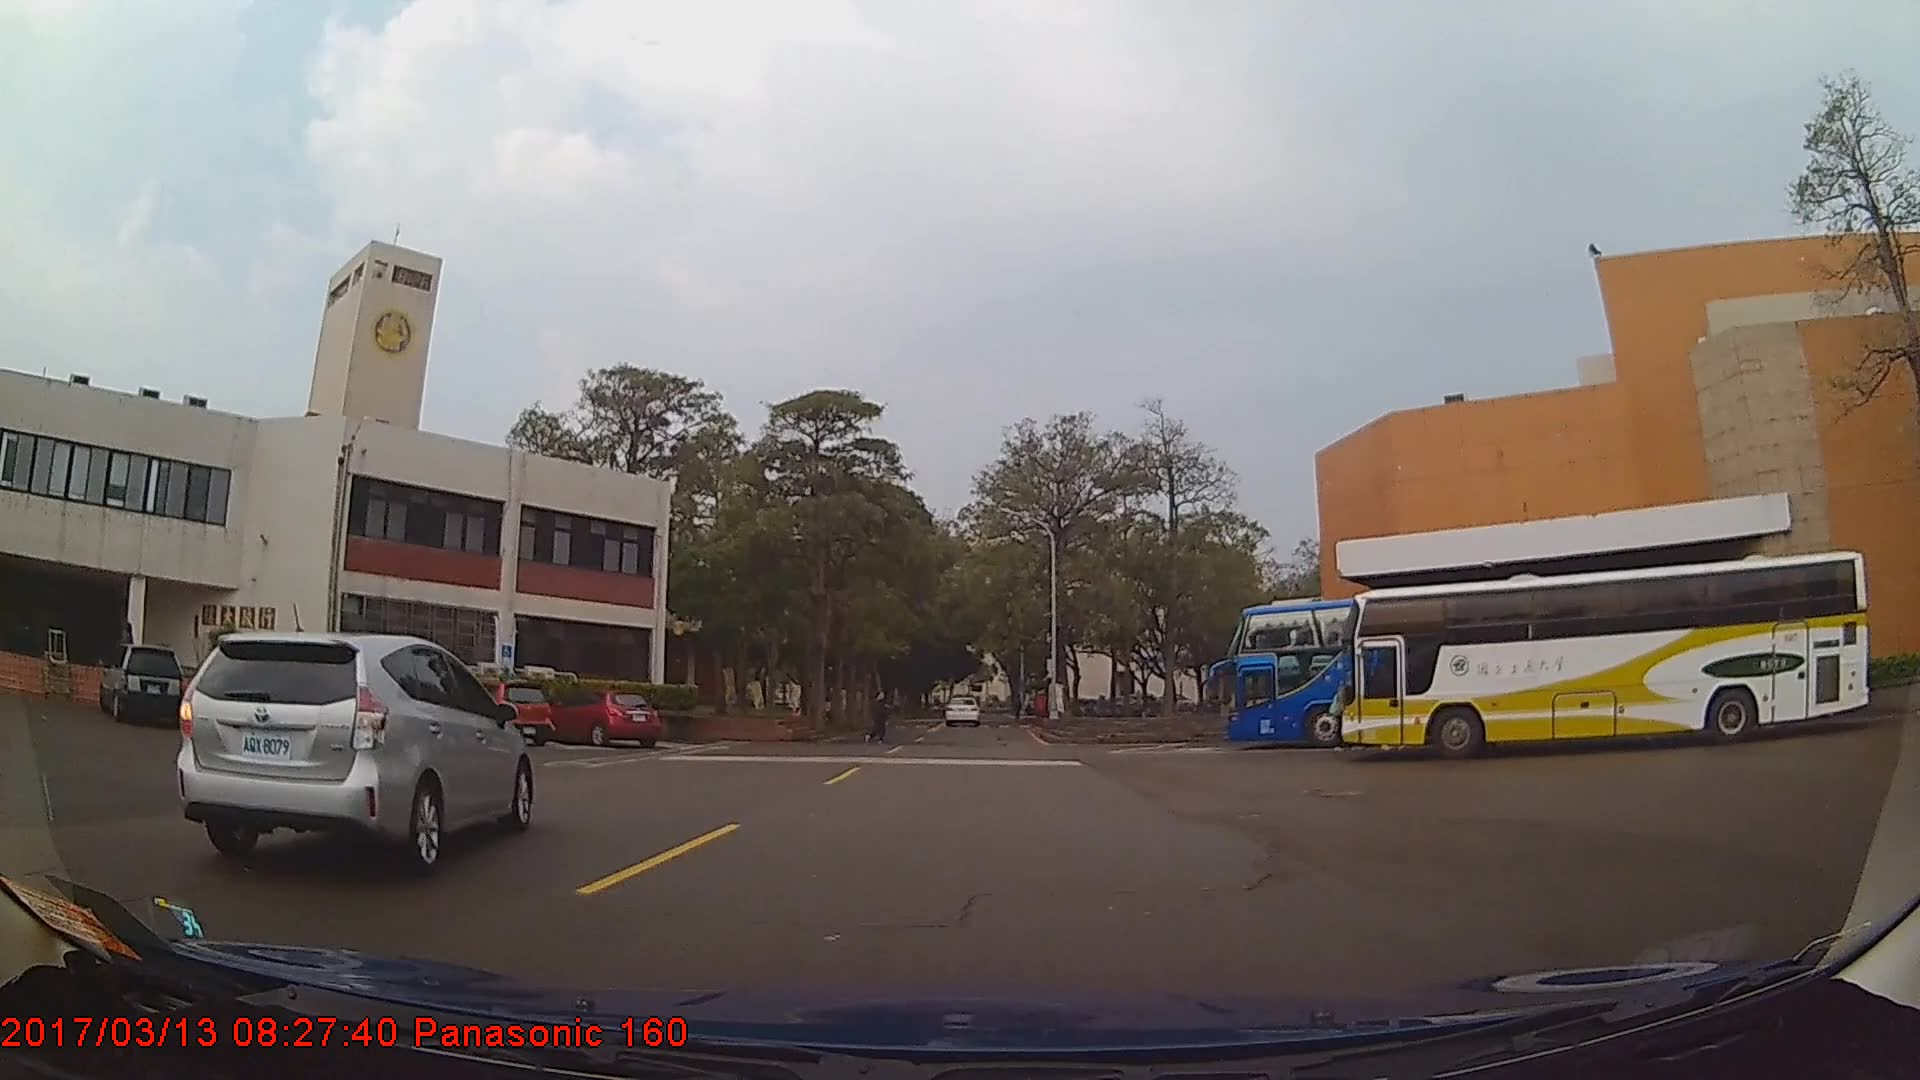pedestrian: (871, 688, 891, 745)
vehicle: (1341, 551, 1872, 762), (180, 623, 538, 870), (1227, 600, 1738, 756), (546, 688, 662, 750), (98, 643, 185, 725), (469, 681, 552, 747), (944, 695, 980, 727)
